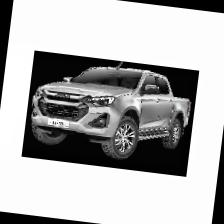NON-EV: (28, 52, 195, 169)
